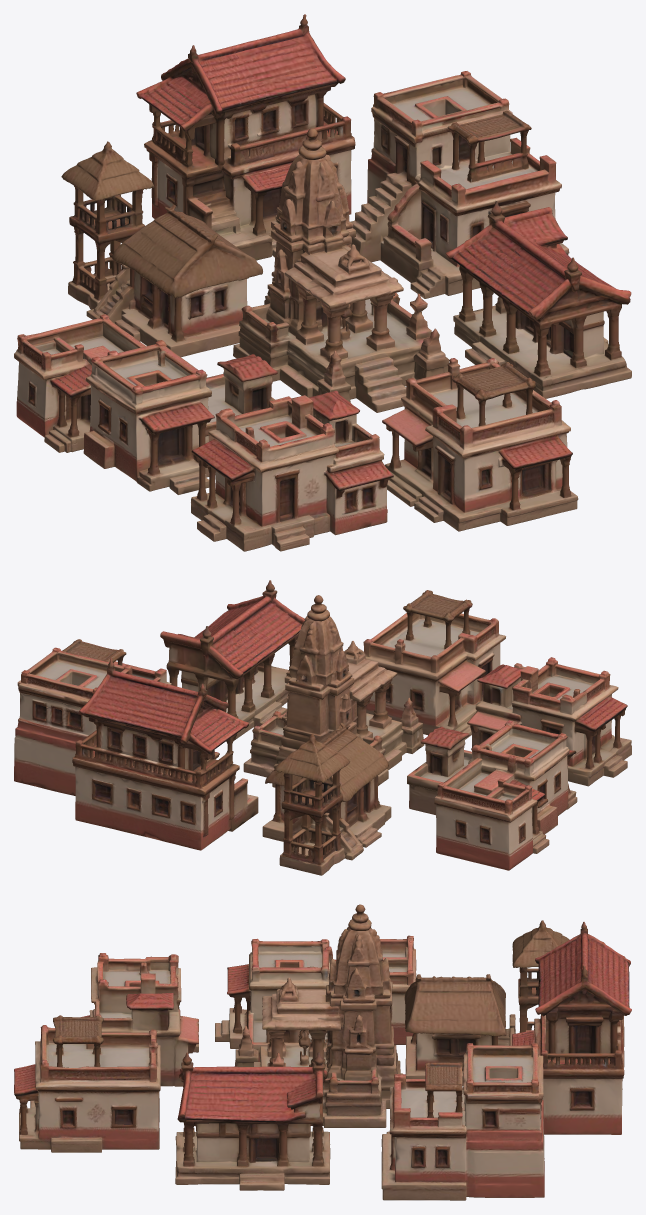
The model's file is Classical Village (South Asian).fbx.
3 renders of one model, top to bottom at view 1: azimuth 30°, elevation 25°; view 2: azimuth 150°, elevation 25°; view 3: azimuth 270°, elevation 25°, orthographic. The views are drawn at different scales.
Visible parts, largest first — view 1: tripo_node_b4a10b89; view 2: tripo_node_b4a10b89; view 3: tripo_node_b4a10b89.
Part boxes in pixels (box(x1,y1,x2,y2)): tripo_node_b4a10b89: box(14, 14, 631, 551); tripo_node_b4a10b89: box(14, 580, 631, 875); tripo_node_b4a10b89: box(14, 904, 631, 1200).
Size of the model in its own units: 0.8635 by 0.3901 by 1.
